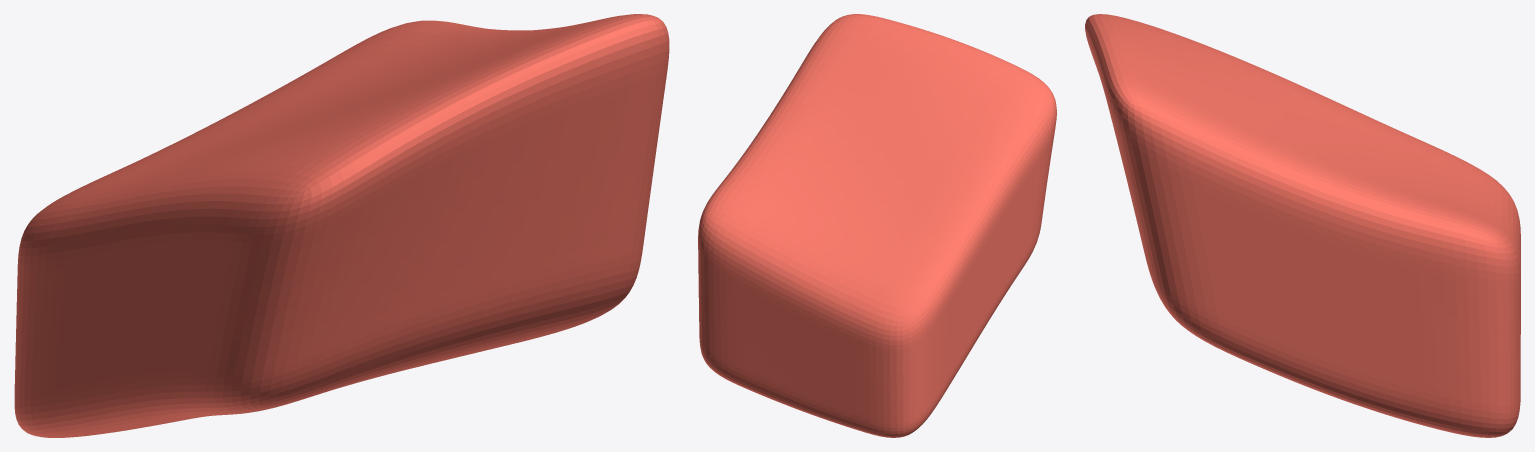
3 views of the same model, side by side, from view 1: azimuth 30°, elevation 25°; view 2: azimuth 150°, elevation 25°; view 3: azimuth 270°, elevation 25° (orthographic). The views are drawn at different scales.
Parts seen in each view (by area): view 1: waves_1.044; view 2: waves_1.044; view 3: waves_1.044.
Part boxes in pixels (box(x1,y1,x2,y2)): waves_1.044: box(14, 14, 669, 437); waves_1.044: box(698, 14, 1056, 437); waves_1.044: box(1085, 14, 1520, 437).
Bounding box in the file's own units: 30.42 × 35.17 × 36.59.
